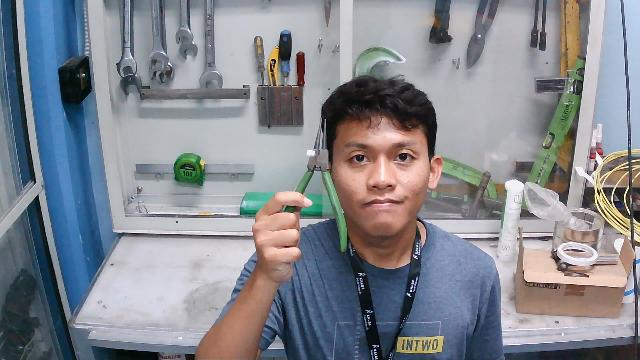tang_cucut_lancip_2: (251, 116, 350, 254)
